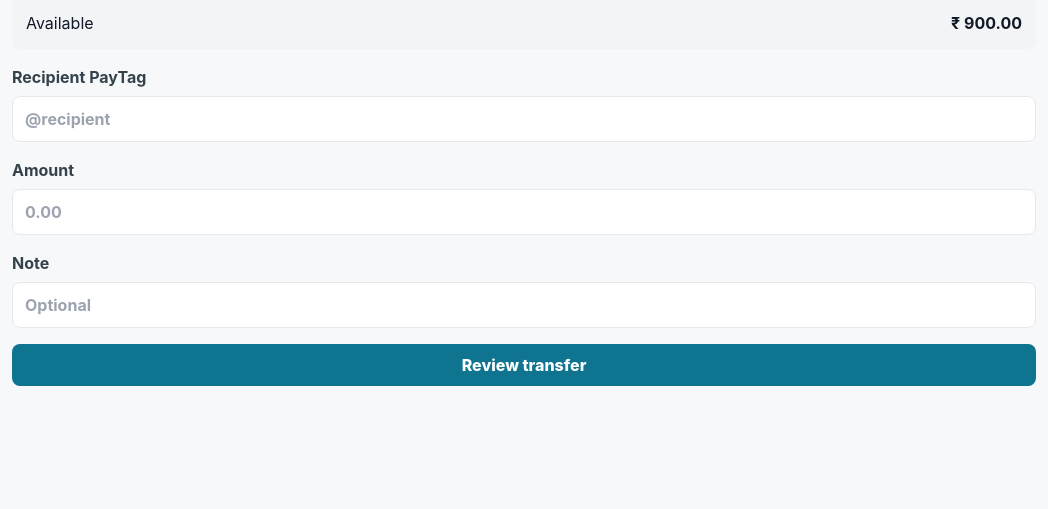
Test case: SendMoneyForm › shows field validation errors before opening confirmation
The width and height of the screenshot is (1048, 509).
Click the button "Review transfer": x=524, y=365 [12, 344, 1036, 386]
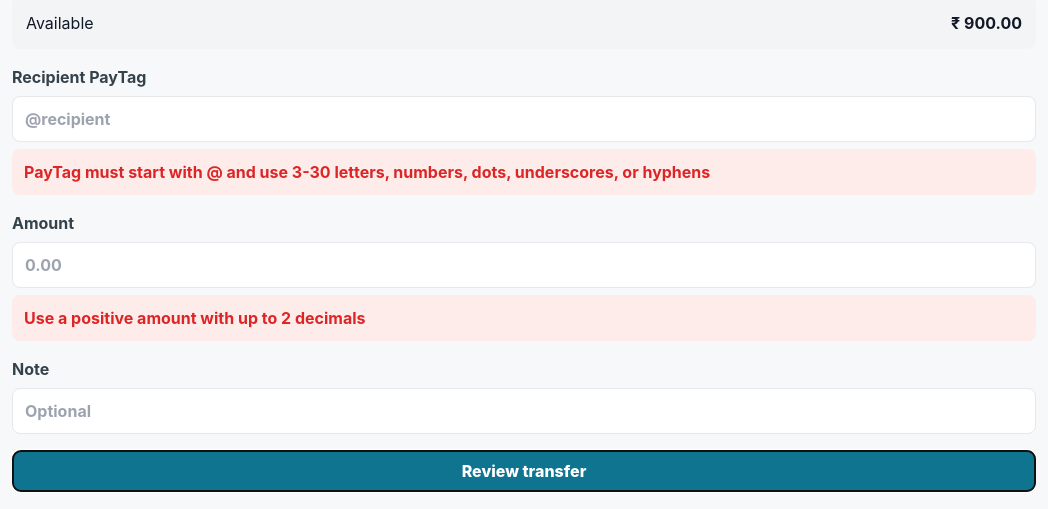
expect the text "PayTag must start with @" is shown: met, box [24, 162, 710, 182]
expect the text "Use a positive amount with up to 2 decimals" is shown: met, box [12, 295, 1036, 341]
